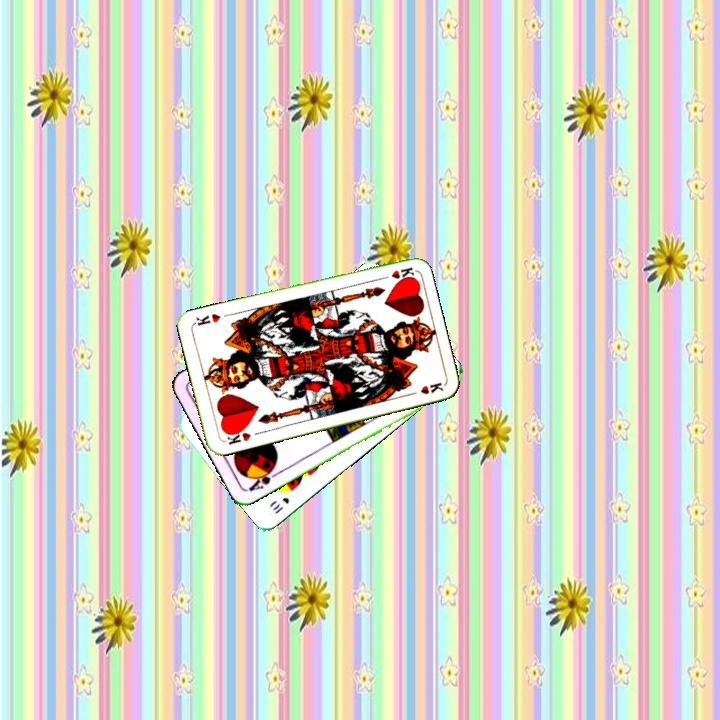HK: (375, 263, 416, 283), (221, 425, 253, 447)
S10: (268, 493, 292, 517)
SA: (244, 463, 282, 494)
